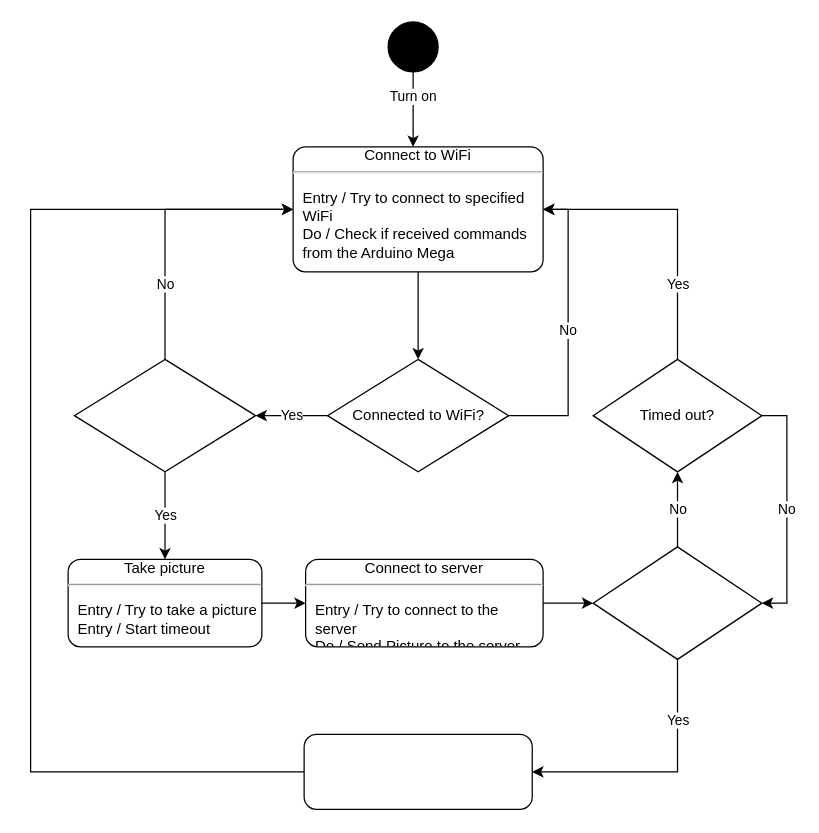
Image size: 819x833. Some labels were removed from this diagram. Here are the shapes that lost their labels. From the top down, the centre of each, then its label:
the point at 164,415: Command Received
the point at 677,602: Response received?
the point at 417,771: Received Analysis Do / Send Data received to Arduino
